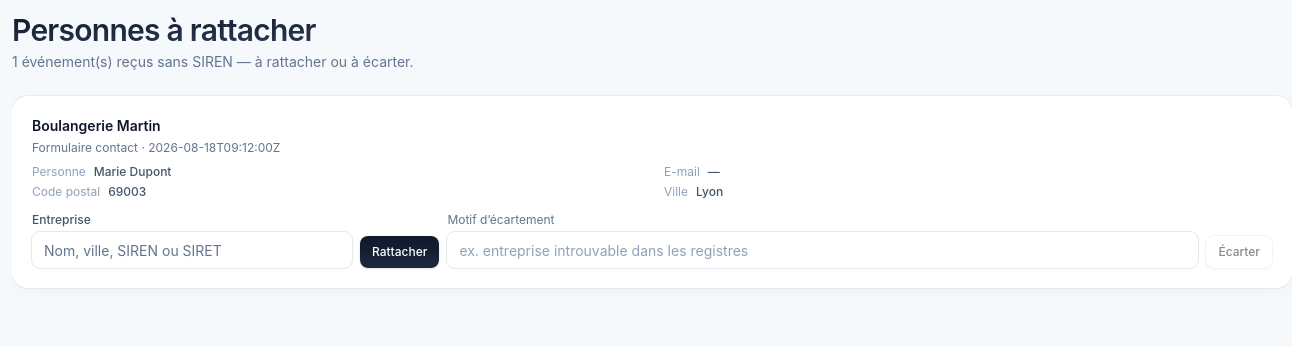
Test: ChoixEntreprise — rattacher en cherchant l’entreprise › aucun résultat : le dit, et suggère quoi taper
The image size is (1292, 346).
In the dropdown labelled "Entreprise": (192,250) left=32, top=232, right=352, bottom=268, type "zzzz"
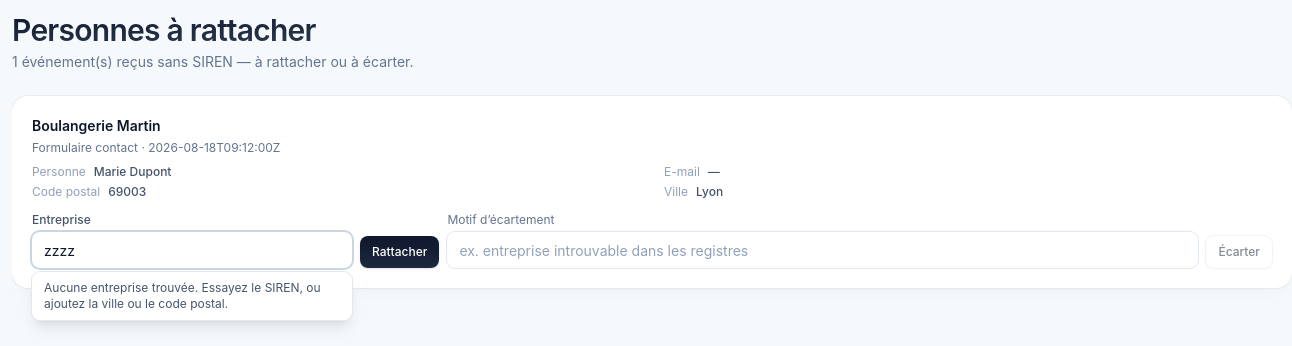
Expected: the text "Aucune entreprise trouvée. Essayez le SIREN, ou ajoutez la ville ou le code postal." is shown, left=44, top=280, right=321, bottom=311
